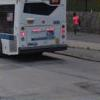Bus: (1, 1, 72, 60)
